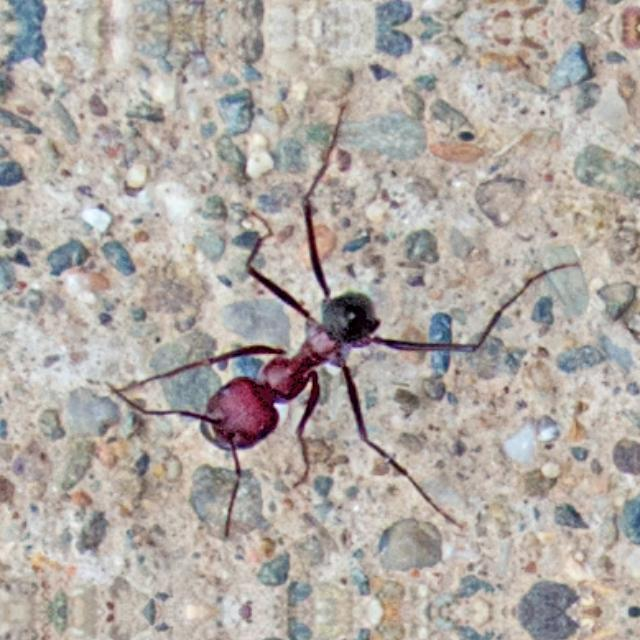Cataglyphis: (154, 247, 436, 495)
